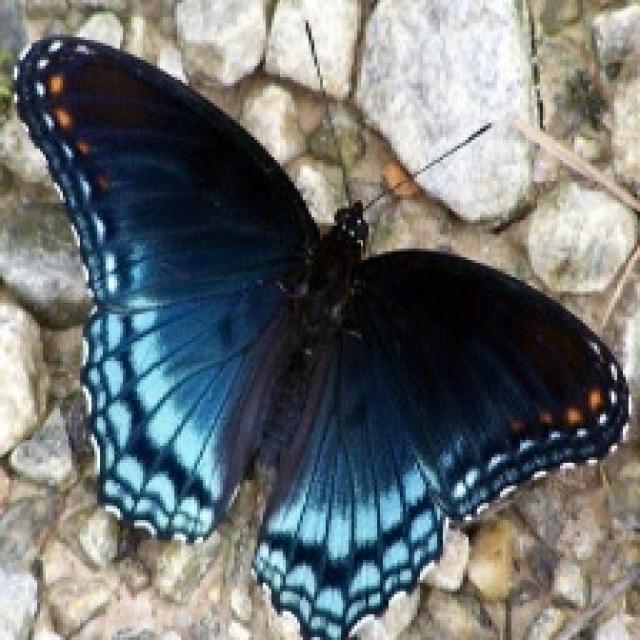butterfly: (9, 20, 632, 637)
